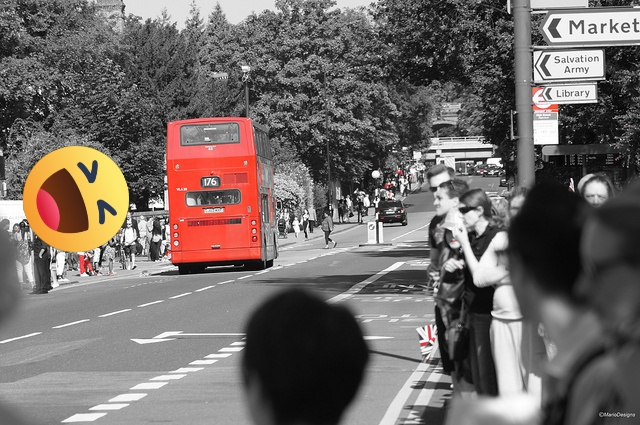haha: (23, 146, 129, 252)
